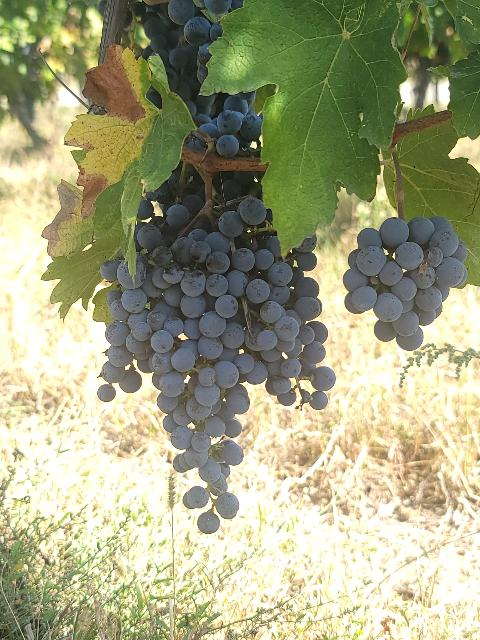grapes: (149, 229, 255, 532), (206, 234, 335, 409), (98, 184, 200, 401), (342, 216, 468, 351)
